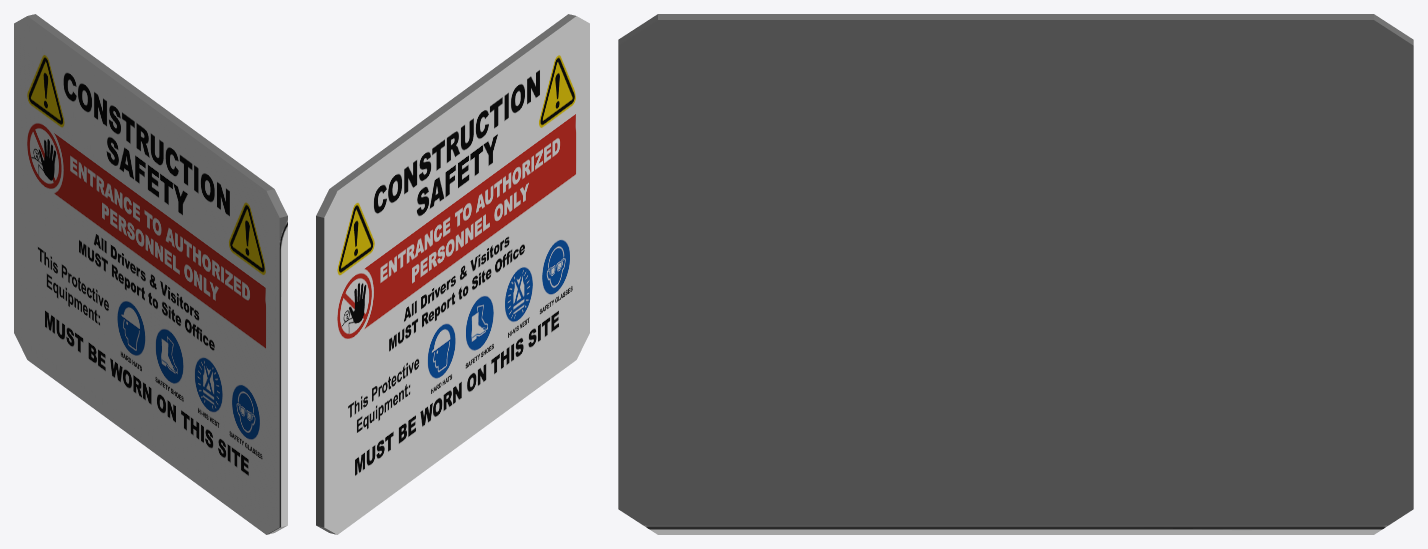
File: sign_rectangle.fbx
The picture shows the model from 3 angles, left to right: view 1: azimuth 30°, elevation 25°; view 2: azimuth 150°, elevation 25°; view 3: azimuth 270°, elevation 25°; orthographic projection. The views are drawn at different scales.
Visible parts, largest first — view 1: sign_rectangle; view 2: sign_rectangle; view 3: sign_rectangle.
Part boxes in pixels (x1,y1,x2,y2): sign_rectangle: (14, 14, 287, 534); sign_rectangle: (316, 14, 589, 534); sign_rectangle: (618, 14, 1413, 534).
Size of the model in its own units: 5 by 200 by 280.
